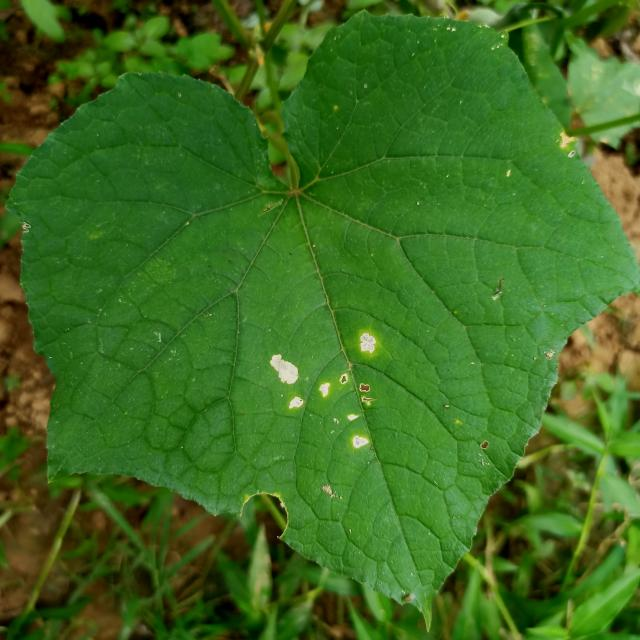disease_cucumber: (269, 334, 378, 449)
